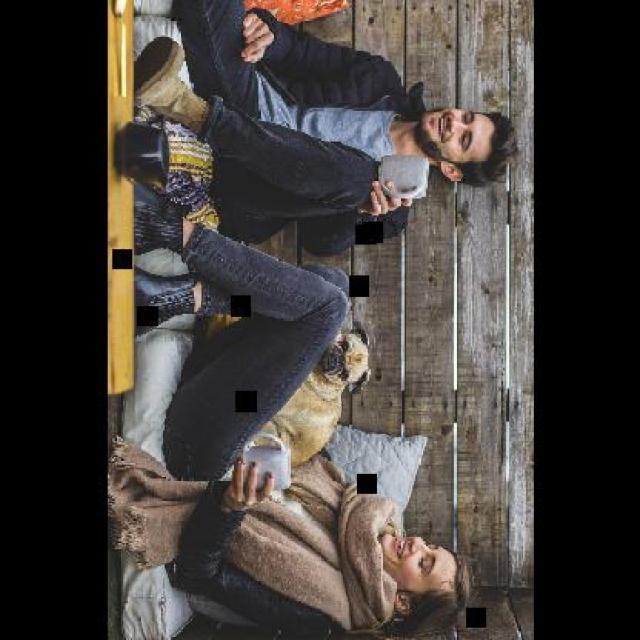unauthorized: (244, 322, 370, 469)
